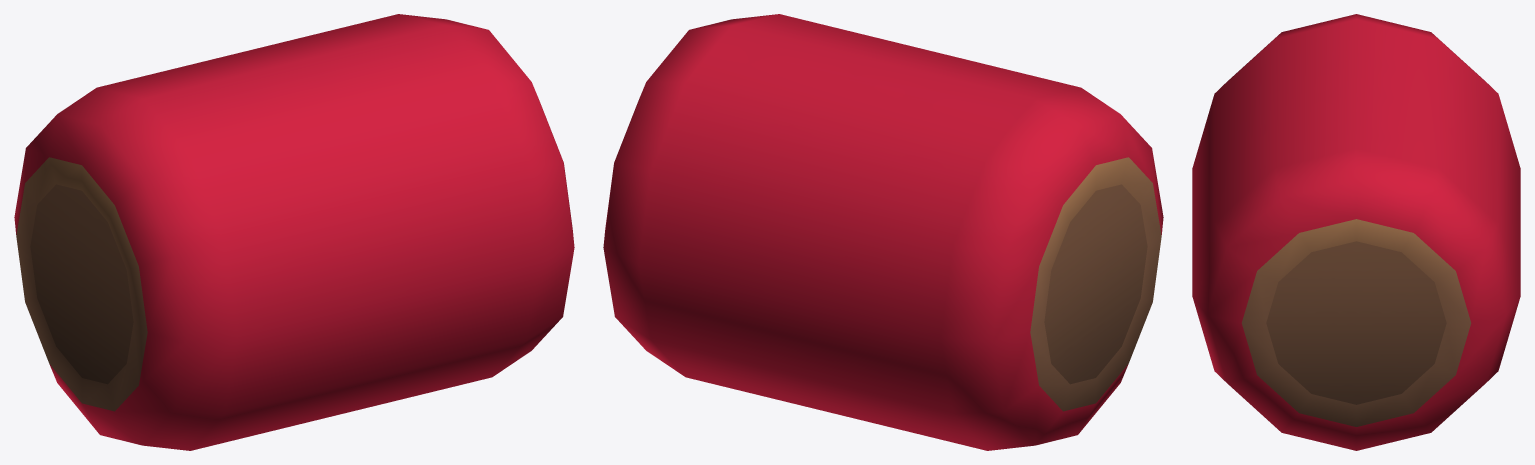
File: Red_Wood.fbx
3 renders of one model, left to right at view 1: azimuth 30°, elevation 25°; view 2: azimuth 150°, elevation 25°; view 3: azimuth 270°, elevation 25°, orthographic. The views are drawn at different scales.
Visible parts, largest first — view 1: Red_Wood; view 2: Red_Wood; view 3: Red_Wood.
Part boxes in pixels (x1=…): Red_Wood: x1=14, y1=14, x2=574, y2=450; Red_Wood: x1=603, y1=14, x2=1163, y2=450; Red_Wood: x1=1192, y1=14, x2=1520, y2=450.
Bounding box in the file's own units: 0.9486 × 0.7256 × 0.7256.
